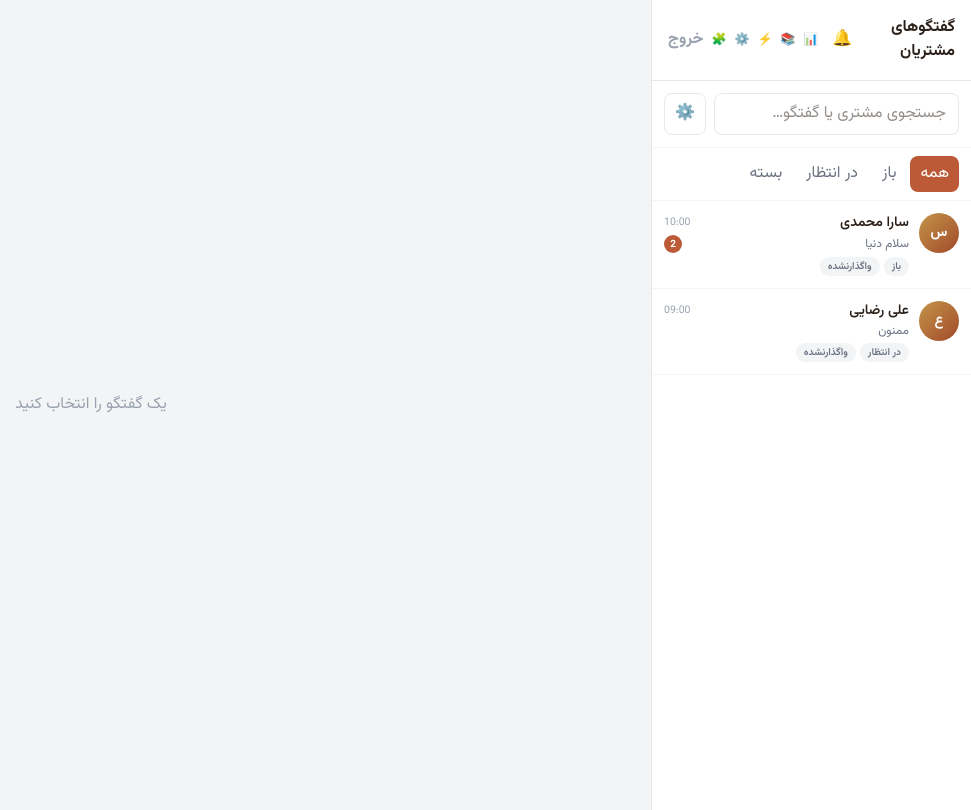
Operator dashboard — customer conversations page › filters the list by search text
Expected: the text "سارا محمدی" is shown, [840,213,909,233]
In the field with placeholder "جستجوی مشتری یا گفتگو…": [836, 114] box [714,93,959,135], type "علی"
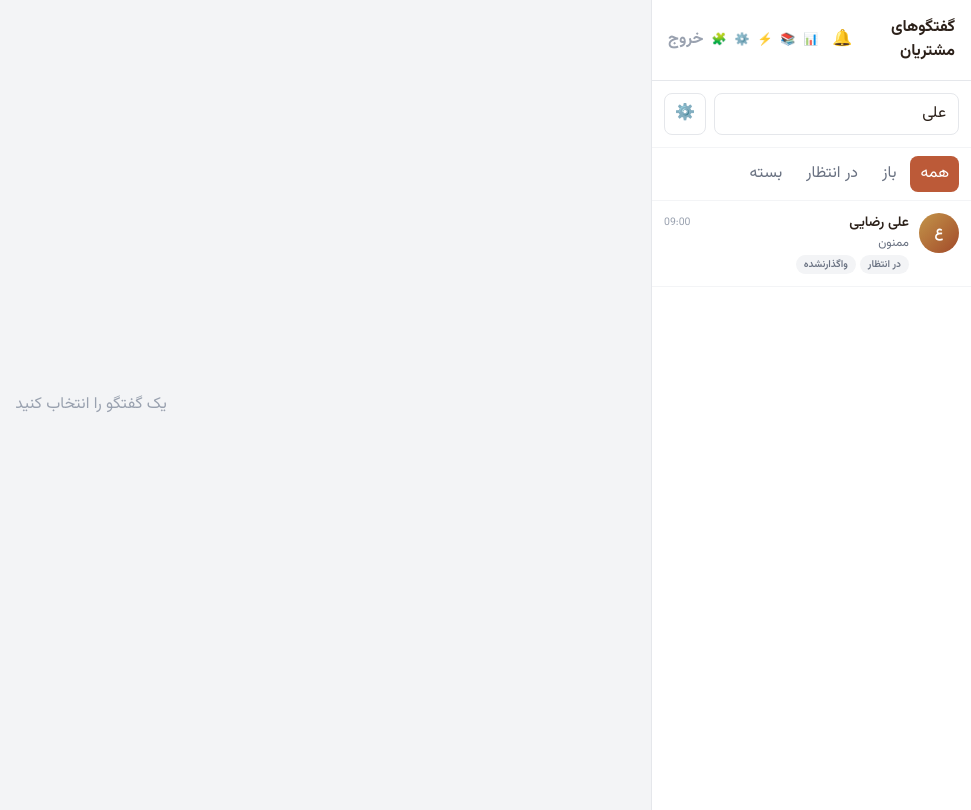
Expected: the text "علی رضایی" is shown, [849,213,909,233]
Result: the text "سارا محمدی" is gone
